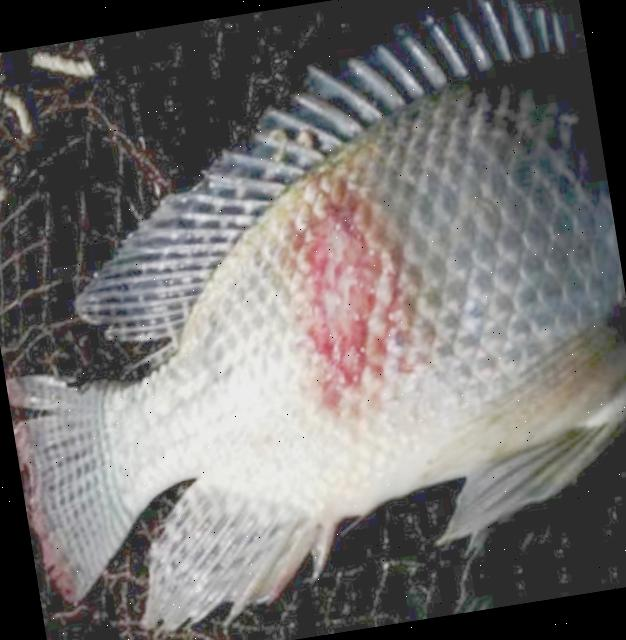Tilapia Lake Virus -TiLV-: (6, 0, 626, 631), (6, 0, 626, 630)
